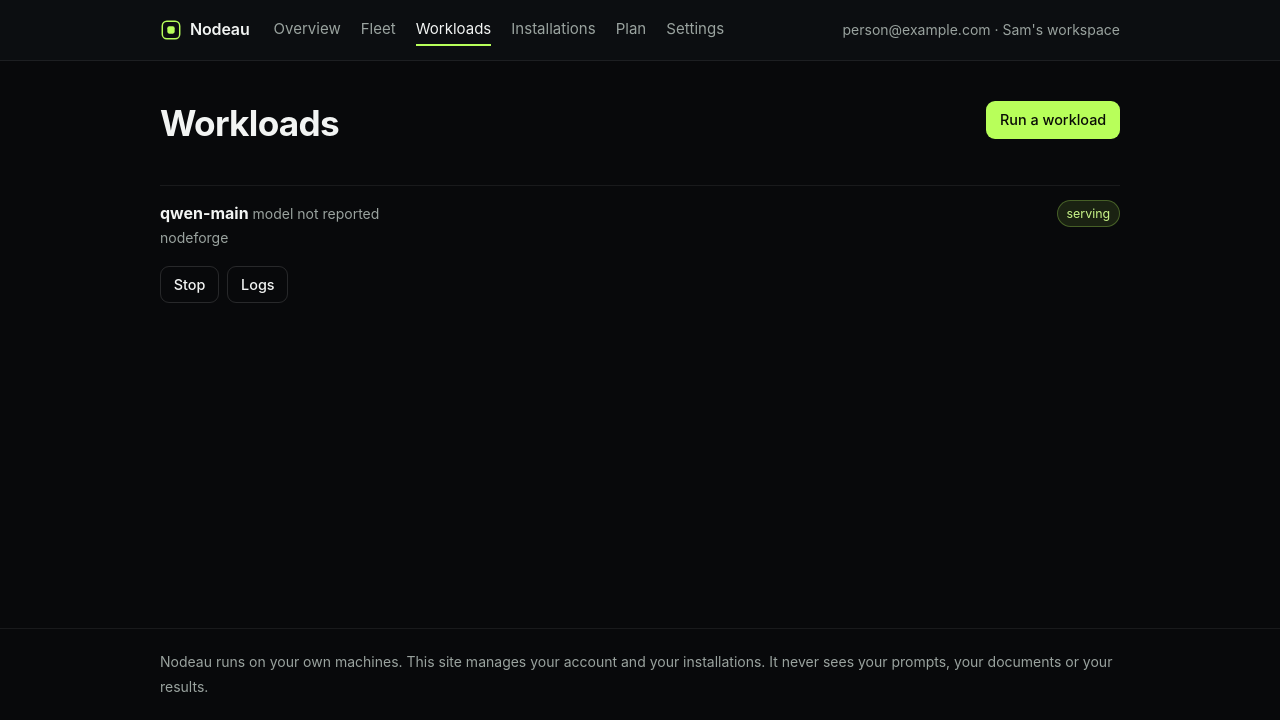
Test: operations › does not claim a workload stopped until the fleet says so
This screenshot has width=1280, height=720.
Expected: the text "qwen-main" is shown, left=160, top=203, right=249, bottom=223
Click the button "Stop".
click(190, 284)  # box left=160, top=266, right=219, bottom=303
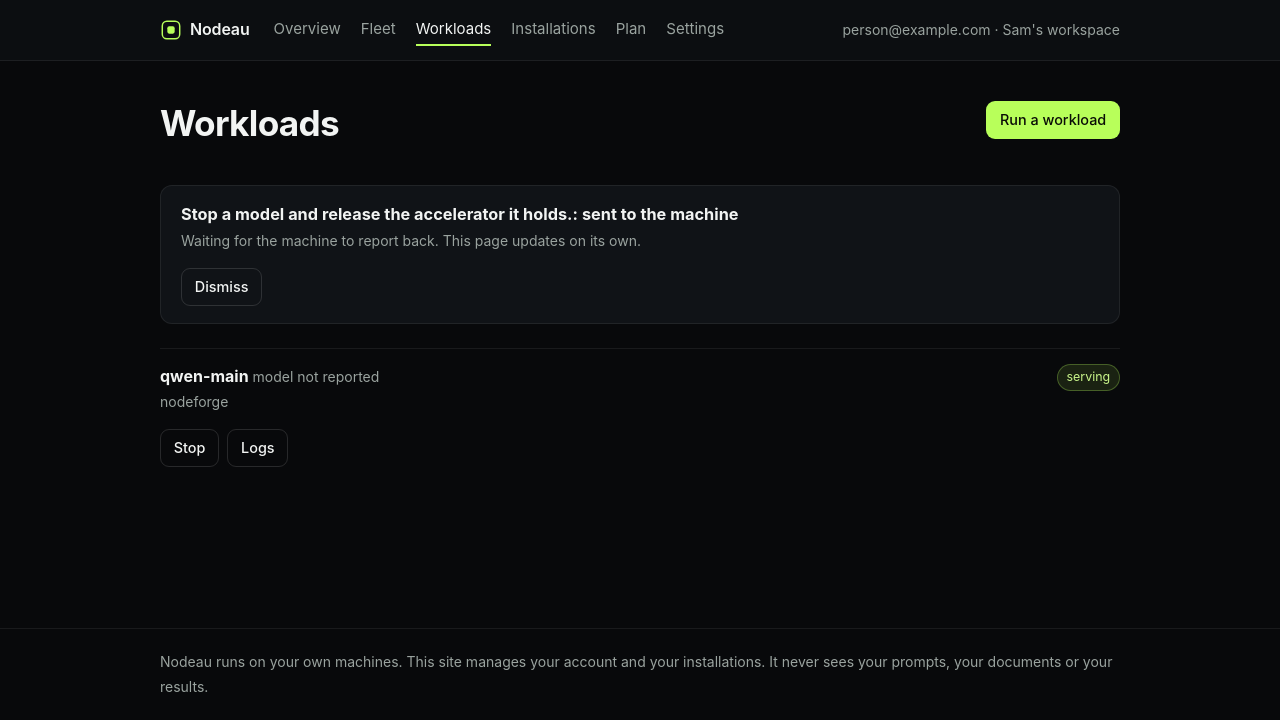
Expected: the heading "sent to the machine" is shown, left=582, top=204, right=739, bottom=224
Expected: the text "Waiting for the machine to report back" is shown, left=181, top=232, right=641, bottom=249
